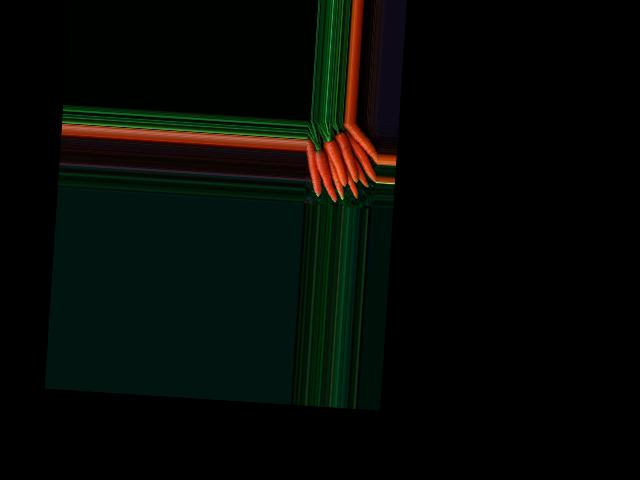carrot: (337, 123, 380, 170)
